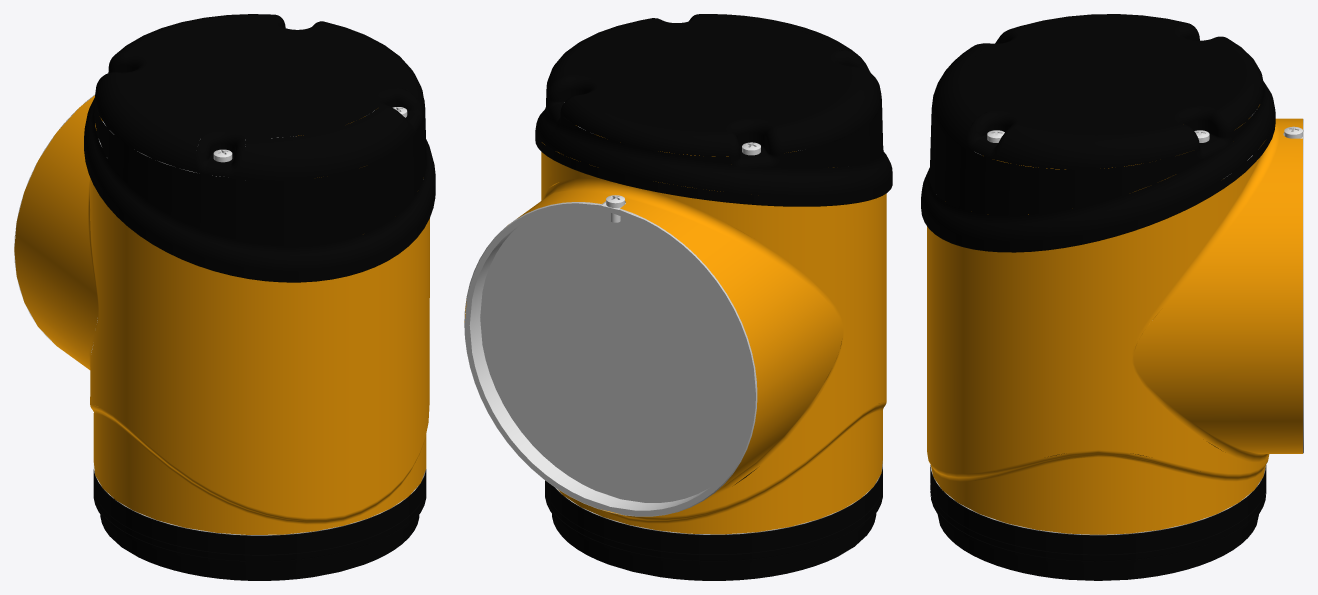
The model's file is shoulder_Link.DAE.
3 views of the same model, side by side, from view 1: azimuth 30°, elevation 25°; view 2: azimuth 150°, elevation 25°; view 3: azimuth 270°, elevation 25° (orthographic).
Visible parts, largest first — view 1: NONE-DC_Shell_ncl1_7, NONE-DC_Shell_ncl1_5, NONE-DC_Shell_ncl1_6; view 2: NONE-DC_Shell_ncl1_3, NONE-DC_Shell_ncl1_7, NONE-DC_Shell_ncl1_5, NONE-DC_Shell_ncl1_6; view 3: NONE-DC_Shell_ncl1_7, NONE-DC_Shell_ncl1_5, NONE-DC_Shell_ncl1_6.
Part boxes in pixels (x1,y1,x2,y2): NONE-DC_Shell_ncl1_7: (14, 95, 429, 534); NONE-DC_Shell_ncl1_5: (84, 14, 435, 282); NONE-DC_Shell_ncl1_6: (93, 469, 426, 580); NONE-DC_Shell_ncl1_3: (464, 201, 757, 516); NONE-DC_Shell_ncl1_7: (464, 125, 886, 534); NONE-DC_Shell_ncl1_5: (535, 14, 892, 206); NONE-DC_Shell_ncl1_6: (545, 467, 882, 580); NONE-DC_Shell_ncl1_7: (927, 104, 1302, 534); NONE-DC_Shell_ncl1_5: (921, 14, 1275, 252); NONE-DC_Shell_ncl1_6: (930, 442, 1266, 580).
Size of the model in its own units: 104 by 112 by 142.
